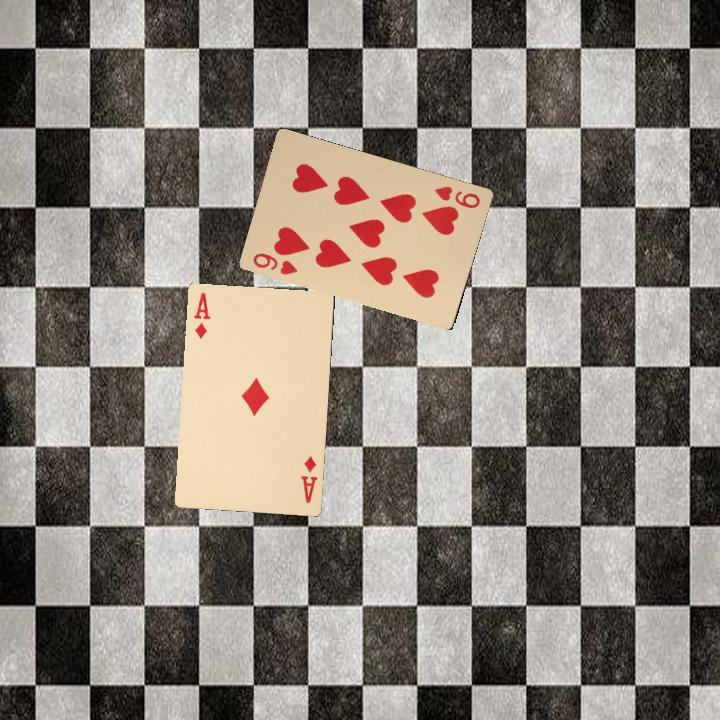9h: (430, 182, 482, 211), (249, 249, 300, 277)
Ad: (297, 453, 320, 506), (190, 289, 213, 342)
